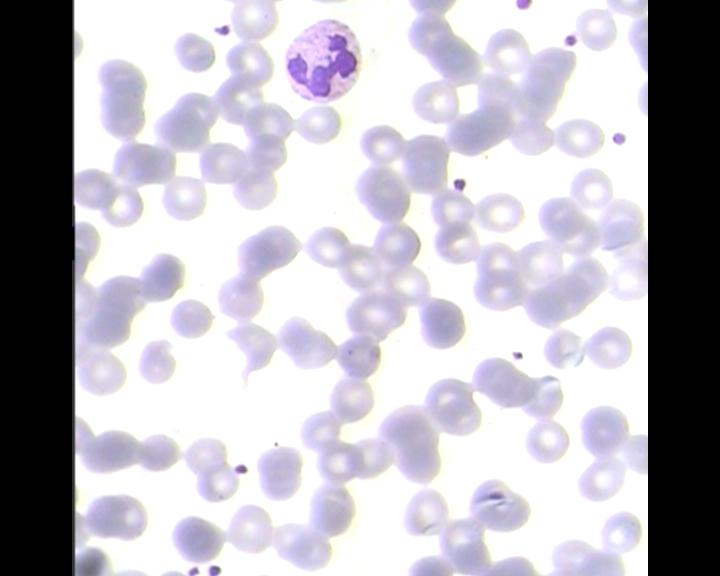neut: (279, 16, 365, 103)
